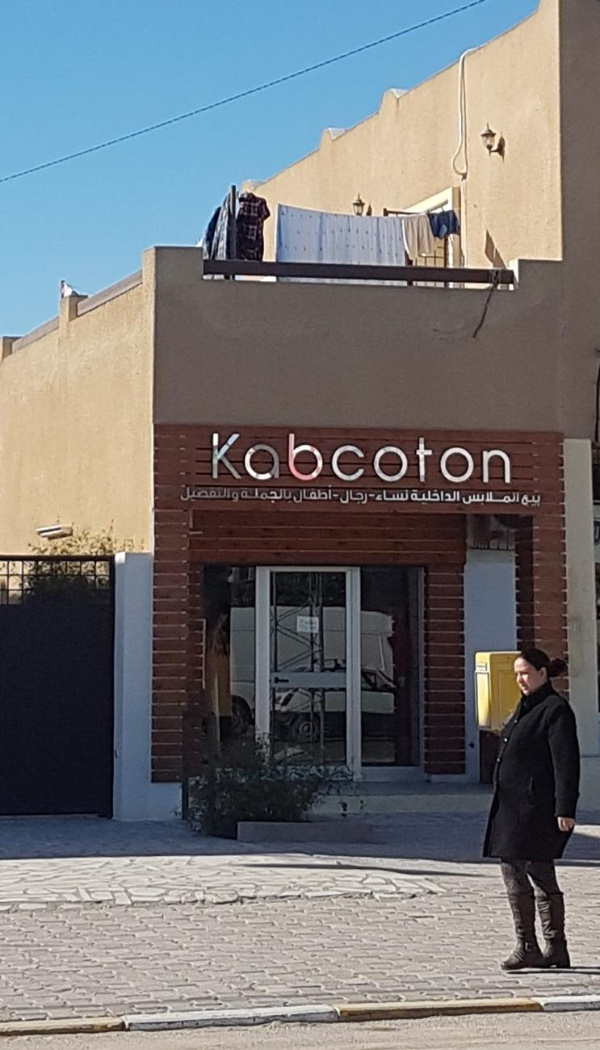text: (225, 431, 240, 488), (241, 431, 256, 488), (257, 431, 272, 488), (273, 431, 288, 488), (289, 431, 304, 488), (305, 431, 320, 488), (321, 431, 336, 488), (337, 431, 352, 488), (353, 431, 368, 488), (369, 431, 384, 488), (385, 431, 400, 488), (401, 431, 416, 488), (417, 431, 432, 488), (433, 431, 448, 488), (449, 431, 464, 488), (465, 431, 480, 488), (481, 431, 496, 488), (497, 431, 512, 488), (212, 431, 224, 488), (305, 484, 320, 505), (353, 490, 369, 506), (257, 488, 272, 505), (273, 488, 288, 505), (193, 486, 208, 503), (209, 486, 224, 503), (417, 489, 432, 505), (433, 489, 448, 505), (293, 484, 304, 505), (321, 484, 332, 505), (465, 491, 480, 506), (481, 491, 496, 506), (497, 491, 512, 506), (243, 488, 256, 505), (180, 486, 192, 503), (385, 489, 400, 502), (449, 489, 461, 505), (341, 490, 352, 506), (529, 494, 541, 507), (374, 489, 384, 502), (513, 491, 520, 506), (401, 489, 409, 502), (232, 492, 240, 505), (225, 486, 231, 503), (521, 494, 528, 507), (289, 488, 294, 505), (411, 489, 416, 505), (369, 493, 384, 498), (462, 491, 464, 506), (332, 493, 336, 499), (337, 493, 340, 499)
